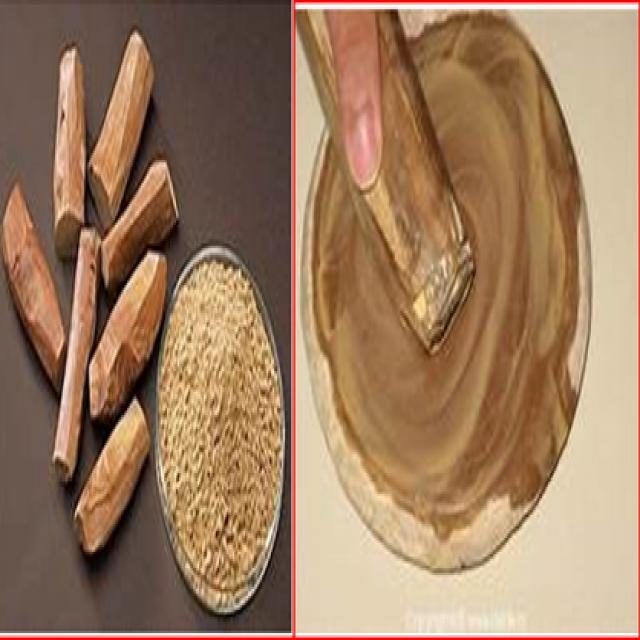Medicinal-Sandalwood: (0, 39, 172, 574)
